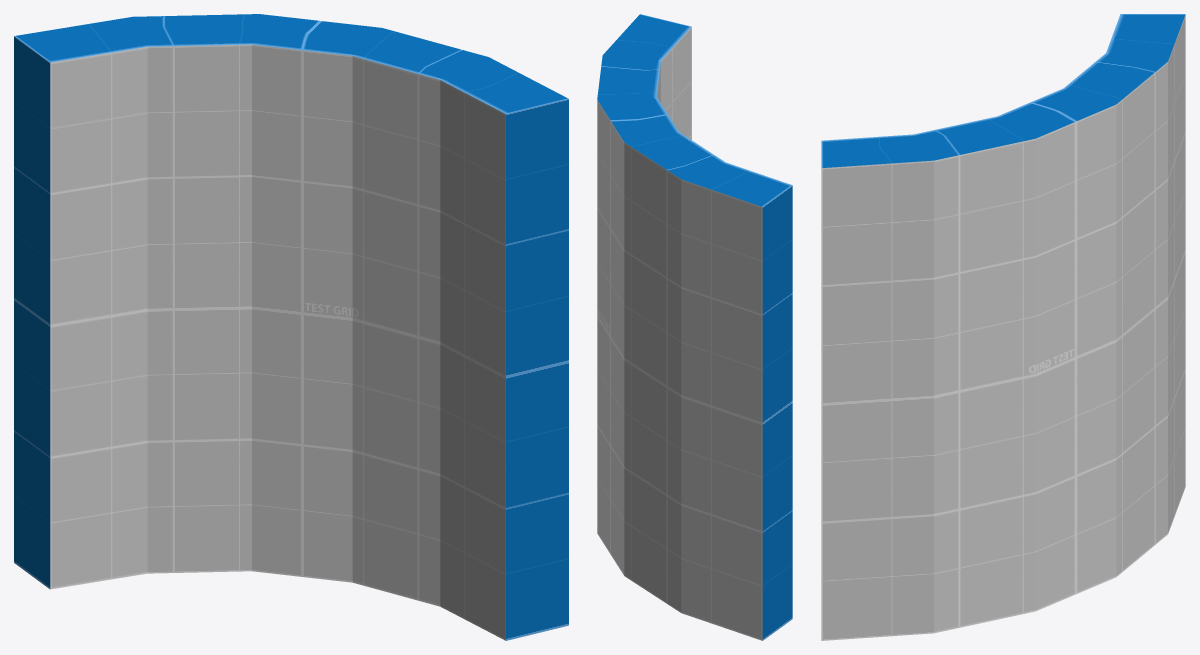
The model's file is Fragged Objects Model _LowPoly +1.fbx.
3 views of the same model, side by side, from view 1: azimuth 30°, elevation 25°; view 2: azimuth 150°, elevation 25°; view 3: azimuth 270°, elevation 25° (orthographic). The views are drawn at different scales.
Visible parts, largest first — view 1: WallCorner_LowPoly_9, WallCorner_LowPoly_1, WallCorner_LowPoly_25, WallCorner_LowPoly_5, WallCorner_LowPoly_20, WallCorner_LowPoly_28, WallCorner_LowPoly_2, WallCorner_LowPoly_11, WallCorner_LowPoly_13, WallCorner_LowPoly_27, WallCorner_LowPoly_16, WallCorner_LowPoly_18 (+17 smaller); view 2: WallCorner_LowPoly_2, WallCorner_LowPoly_25, WallCorner_LowPoly_1, WallCorner_LowPoly_21, WallCorner_LowPoly_8, WallCorner_LowPoly_5, WallCorner_LowPoly_27, WallCorner_LowPoly_17, WallCorner_LowPoly_20, WallCorner_LowPoly_22, WallCorner_LowPoly_9, WallCorner_LowPoly_30 (+7 smaller); view 3: WallCorner_LowPoly_11, WallCorner_LowPoly_20, WallCorner_LowPoly_5, WallCorner_LowPoly_13, WallCorner_LowPoly_1, WallCorner_LowPoly_22, WallCorner_LowPoly_3, WallCorner_LowPoly_2, WallCorner_LowPoly_14, WallCorner_LowPoly_10, WallCorner_LowPoly_27, WallCorner_LowPoly_7 (+12 smaller).
Boxes of the visible parts, box(x1,y1,x2,y2) form: WallCorner_LowPoly_9: box(14, 442, 278, 589); WallCorner_LowPoly_1: box(102, 14, 276, 204); WallCorner_LowPoly_25: box(14, 25, 111, 281); WallCorner_LowPoly_5: box(222, 15, 453, 148); WallCorner_LowPoly_20: box(442, 47, 568, 254); WallCorner_LowPoly_28: box(453, 467, 568, 640); WallCorner_LowPoly_2: box(14, 395, 251, 552); WallCorner_LowPoly_11: box(378, 247, 568, 386); WallCorner_LowPoly_13: box(385, 377, 568, 511); WallCorner_LowPoly_27: box(154, 289, 287, 447); WallCorner_LowPoly_16: box(344, 175, 526, 308); WallCorner_LowPoly_18: box(41, 201, 182, 316); WallCorner_LowPoly_2: box(621, 461, 792, 632); WallCorner_LowPoly_25: box(718, 171, 792, 392); WallCorner_LowPoly_1: box(603, 139, 749, 285); WallCorner_LowPoly_21: box(677, 366, 792, 495); WallCorner_LowPoly_8: box(673, 171, 749, 366); WallCorner_LowPoly_5: box(597, 58, 691, 201); WallCorner_LowPoly_27: box(615, 349, 677, 482); WallCorner_LowPoly_17: box(653, 401, 792, 502); WallCorner_LowPoly_20: box(601, 14, 691, 121); WallCorner_LowPoly_22: box(597, 195, 618, 431); WallCorner_LowPoly_9: box(627, 538, 792, 640); WallCorner_LowPoly_30: box(606, 219, 645, 350); WallCorner_LowPoly_11: box(821, 247, 1020, 417); WallCorner_LowPoly_20: box(821, 135, 972, 301); WallCorner_LowPoly_5: box(908, 78, 1109, 248); WallCorner_LowPoly_13: box(821, 417, 993, 552); WallCorner_LowPoly_1: box(1055, 38, 1172, 242); WallCorner_LowPoly_22: box(1004, 231, 1099, 448); WallCorner_LowPoly_3: box(963, 494, 1119, 626); WallCorner_LowPoly_2: box(1106, 337, 1185, 536); WallCorner_LowPoly_14: box(956, 471, 1107, 588); WallCorner_LowPoly_10: box(875, 530, 972, 637); WallCorner_LowPoly_27: box(1088, 280, 1164, 486); WallCorner_LowPoly_7: box(957, 410, 1090, 493).
Bounding box in the file's own units: 280 × 400 × 279.
